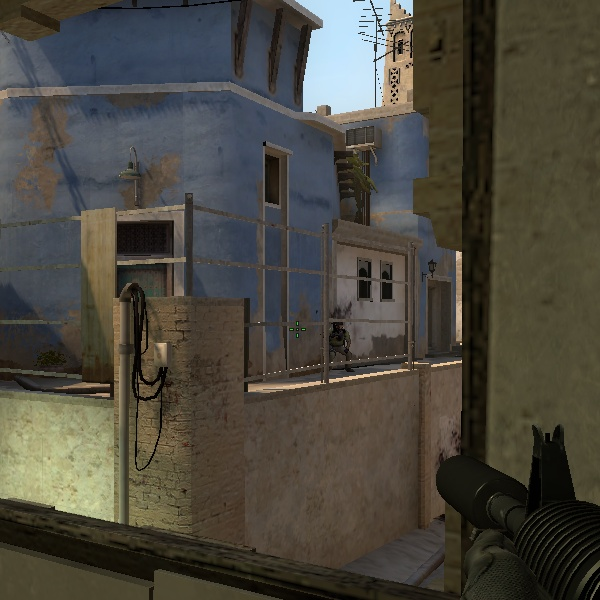ct_body: (325, 317, 355, 367)
